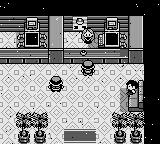main: (80, 61, 95, 76)
no-caminable: (1, 0, 160, 143), (112, 112, 144, 143), (16, 113, 48, 143), (98, 17, 128, 48), (18, 17, 48, 48), (48, 16, 63, 63), (128, 16, 143, 63), (1, 50, 48, 63), (64, 16, 97, 32), (96, 50, 128, 63), (1, 16, 16, 32), (64, 49, 78, 63)
npc: (47, 77, 64, 93), (80, 29, 96, 43), (126, 80, 138, 95)
puerta: (62, 129, 99, 143)
recuperarse: (79, 49, 95, 64)
